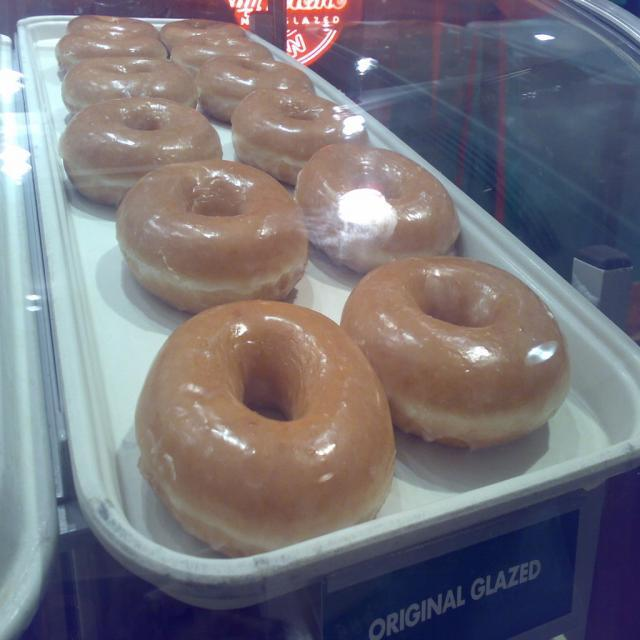Bagel: (58, 19, 570, 558)
